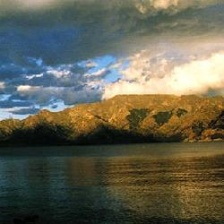neutral: (3, 89, 223, 180)
